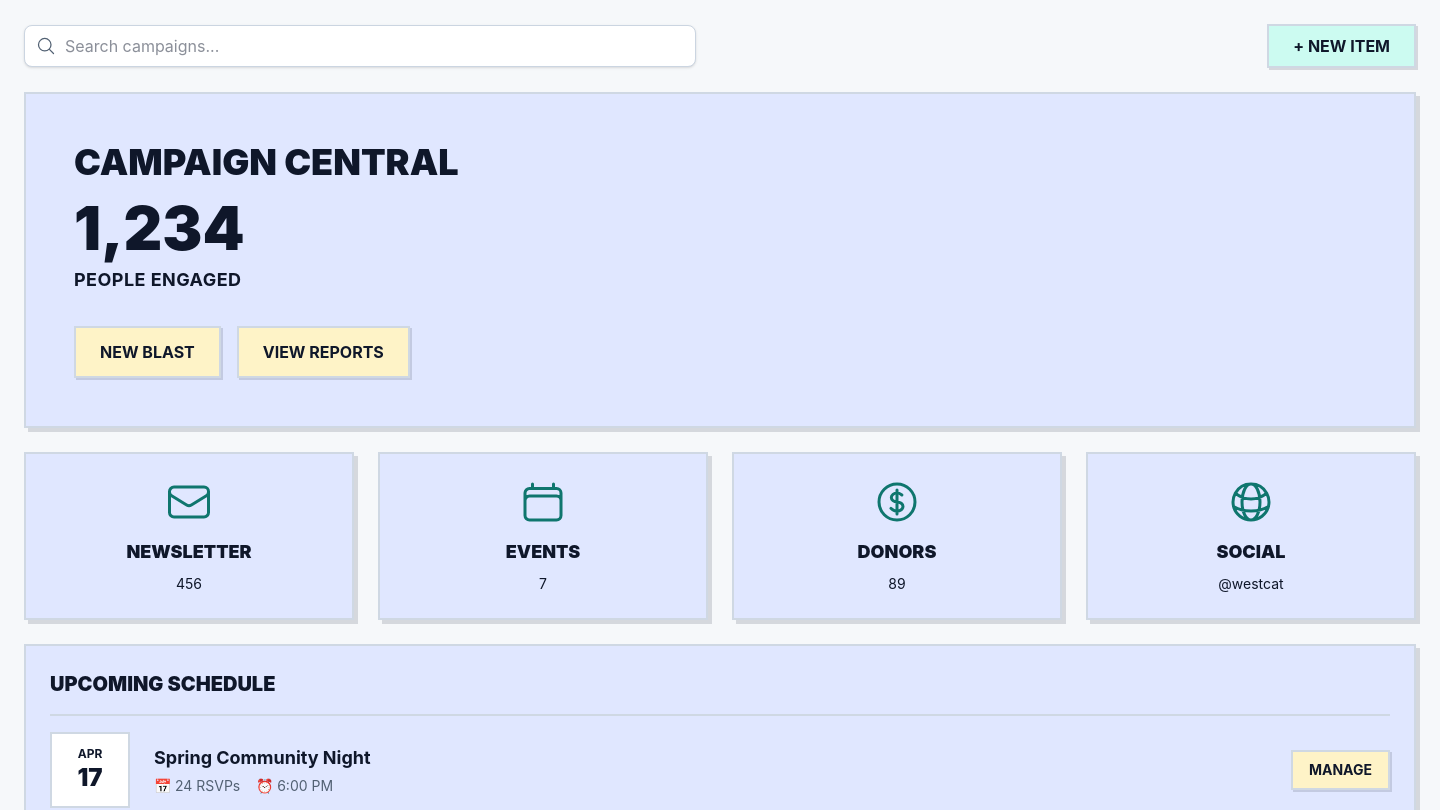
Test: OutreachCenterPage › shows an empty state when outreach search has no matches
Expected: the heading "Spring Community Night" is shown, top-left (154, 744), bottom-right (371, 772)
Type "zzzz" into the search field named "search outreach campaigns". click: (360, 46)
box: top-left (24, 25), bottom-right (696, 67)
(page scrolled)
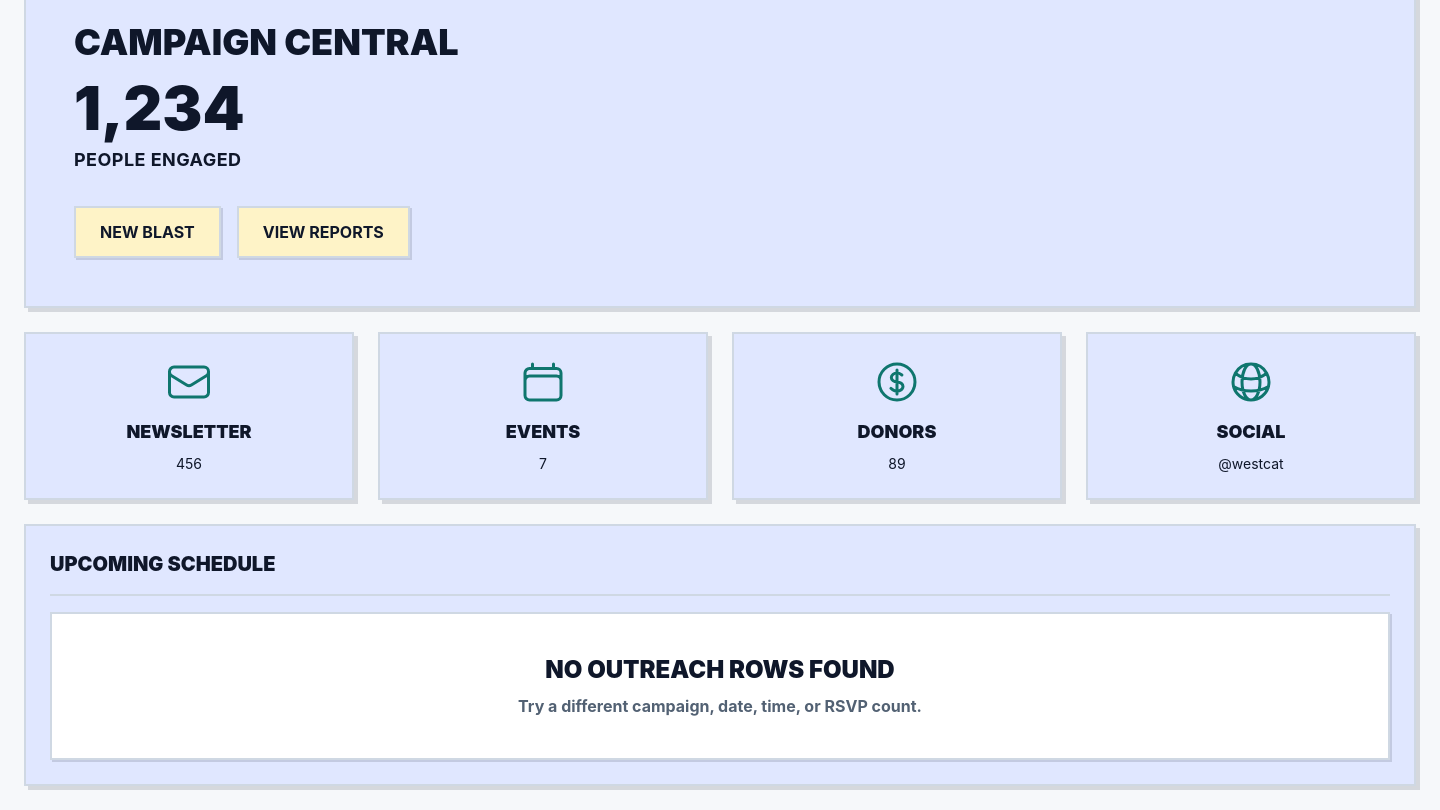
Expected: the heading "No Outreach Rows Found" is shown, top-left (545, 655), bottom-right (895, 684)
Expected: the text "Try a different campaign, date, time, or RSVP count." is shown, top-left (518, 696), bottom-right (922, 716)
Expected: the heading "Spring Community Night" is gone
